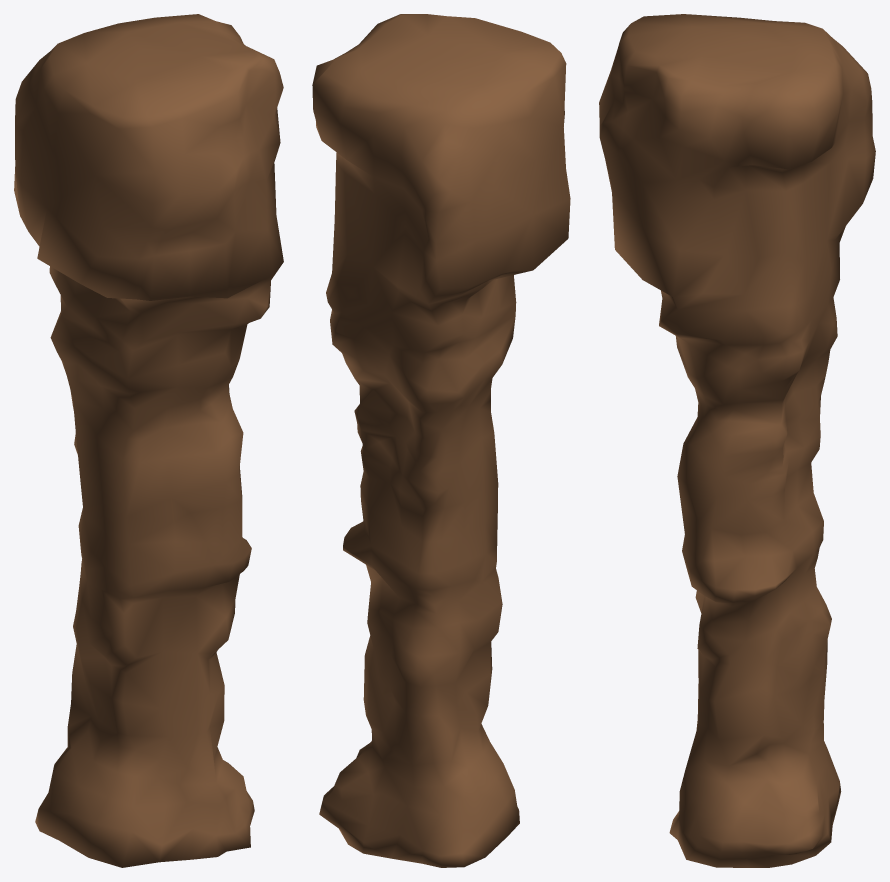
The model's file is MSH_Rocks_Cliff_19_a.FBX.
3 renders of one model, left to right at view 1: azimuth 30°, elevation 25°; view 2: azimuth 150°, elevation 25°; view 3: azimuth 270°, elevation 25°, orthographic. The views are drawn at different scales.
Parts seen in each view (by area): view 1: MESH_LOD0; view 2: MESH_LOD0; view 3: MESH_LOD0.
Part boxes in pixels (left/top/right/bottom): MESH_LOD0: left=14, top=14, right=283, bottom=867; MESH_LOD0: left=312, top=14, right=570, bottom=867; MESH_LOD0: left=599, top=14, right=875, bottom=867.
Size of what is drawn, in the model's own units: 99.02 by 362 by 115.
